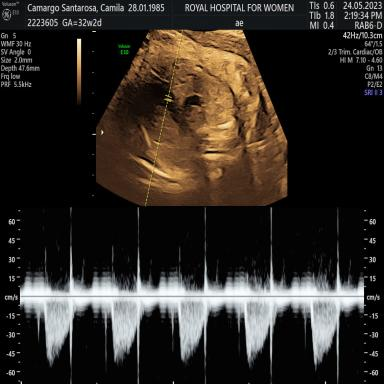Ultrasound-Waves: (26, 207, 363, 384)
